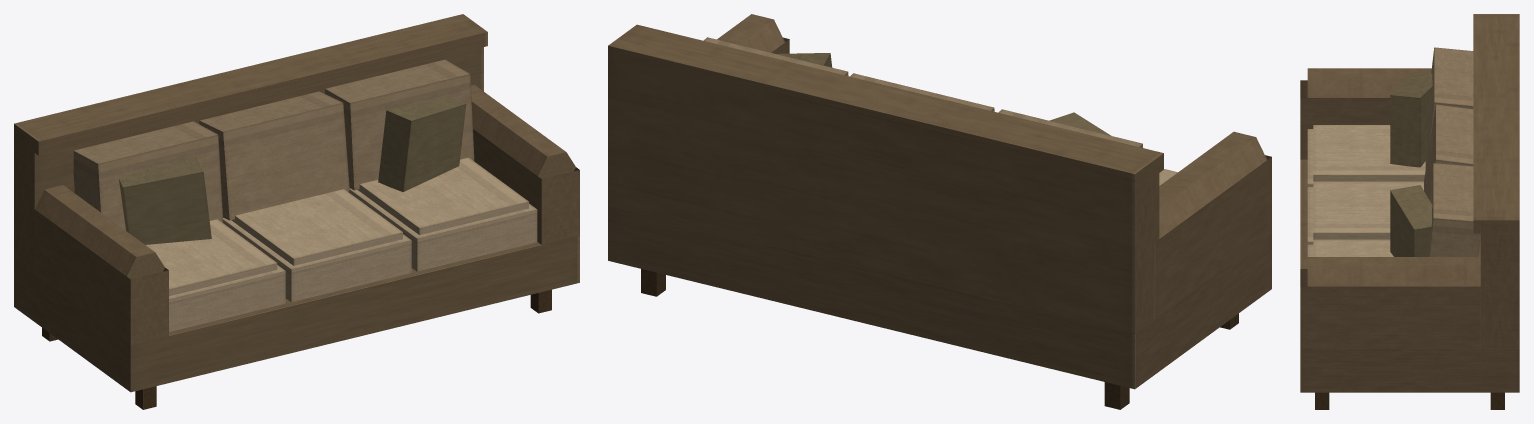
Rendered from couch.glb.
3 renders of one model, left to right at view 1: azimuth 30°, elevation 25°; view 2: azimuth 150°, elevation 25°; view 3: azimuth 270°, elevation 25°, orthographic. The views are drawn at different scales.
Visible parts, largest first — view 1: core_couch; view 2: core_couch; view 3: core_couch.
Part boxes in pixels (<box>): core_couch: <box>14,14,579,409</box>; core_couch: <box>608,14,1271,409</box>; core_couch: <box>1300,14,1519,409</box>.
Size of the model in its own units: 2 by 0.9 by 0.9.
1 material, 1 textured.
